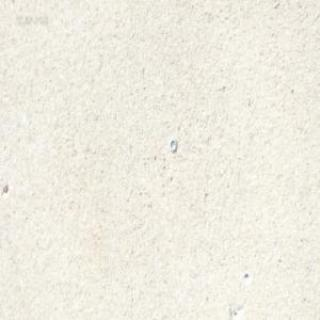Washertrack_idkeyframe: (159, 128, 186, 163)
